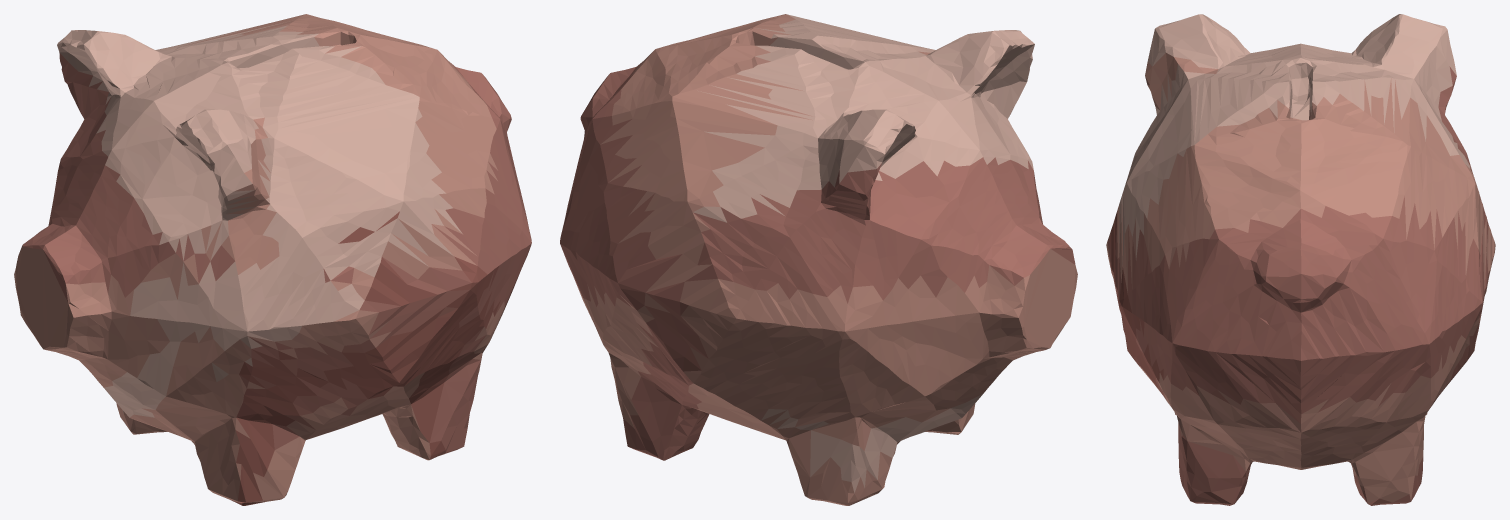
File: piggybank.glb
The picture shows the model from 3 angles, left to right: view 1: azimuth 30°, elevation 25°; view 2: azimuth 150°, elevation 25°; view 3: azimuth 270°, elevation 25°; orthographic projection. The views are drawn at different scales.
Visible parts, largest first — view 1: geometry_0; view 2: geometry_0; view 3: geometry_0.
Part boxes in pixels (x1=…): geometry_0: x1=14, y1=14, x2=531, y2=505; geometry_0: x1=560, y1=14, x2=1077, y2=505; geometry_0: x1=1106, y1=14, x2=1495, y2=505.
Bounding box in the file's own units: 1.99 × 1.67 × 1.55.
